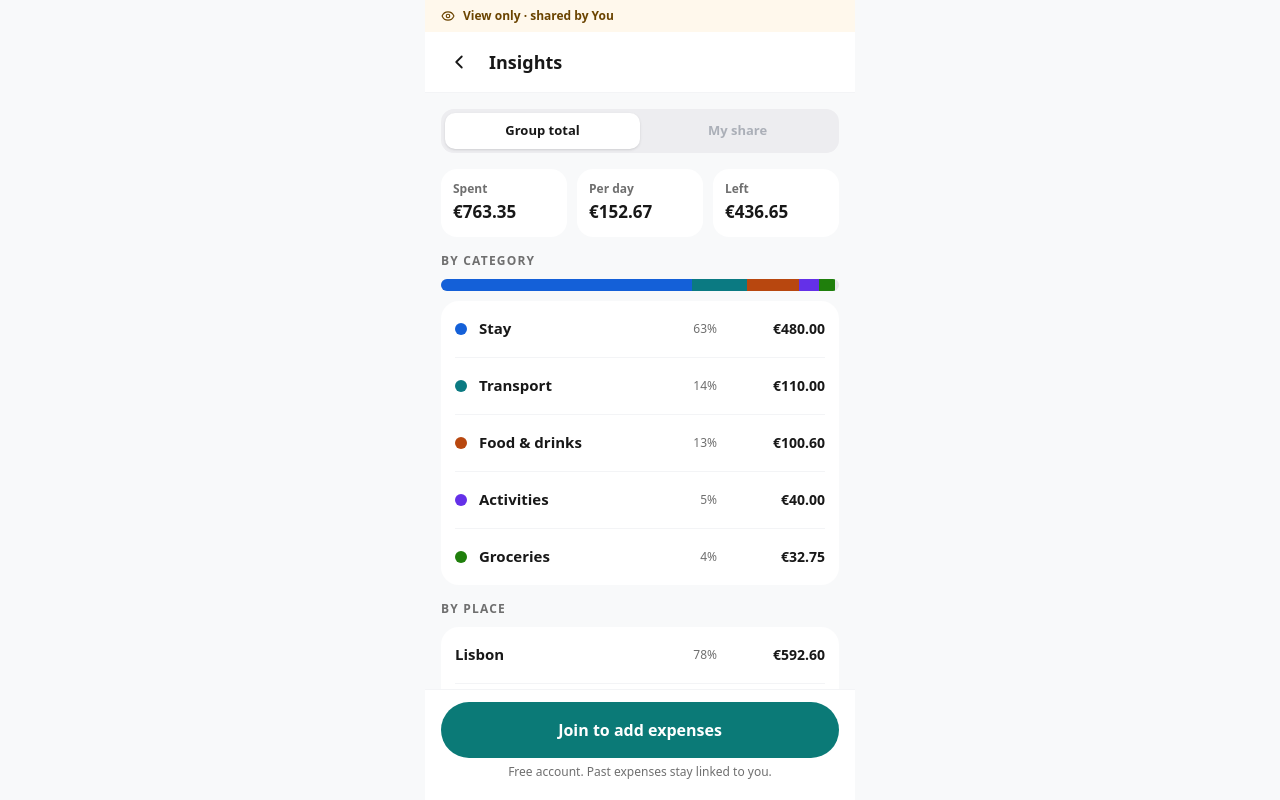
Test: public view-only trip › links insight rows to the guest list, not the member list
Click the button "Food & drinks 13% €100.60" at (530, 442), box top-left (455, 414), bottom-right (825, 470)
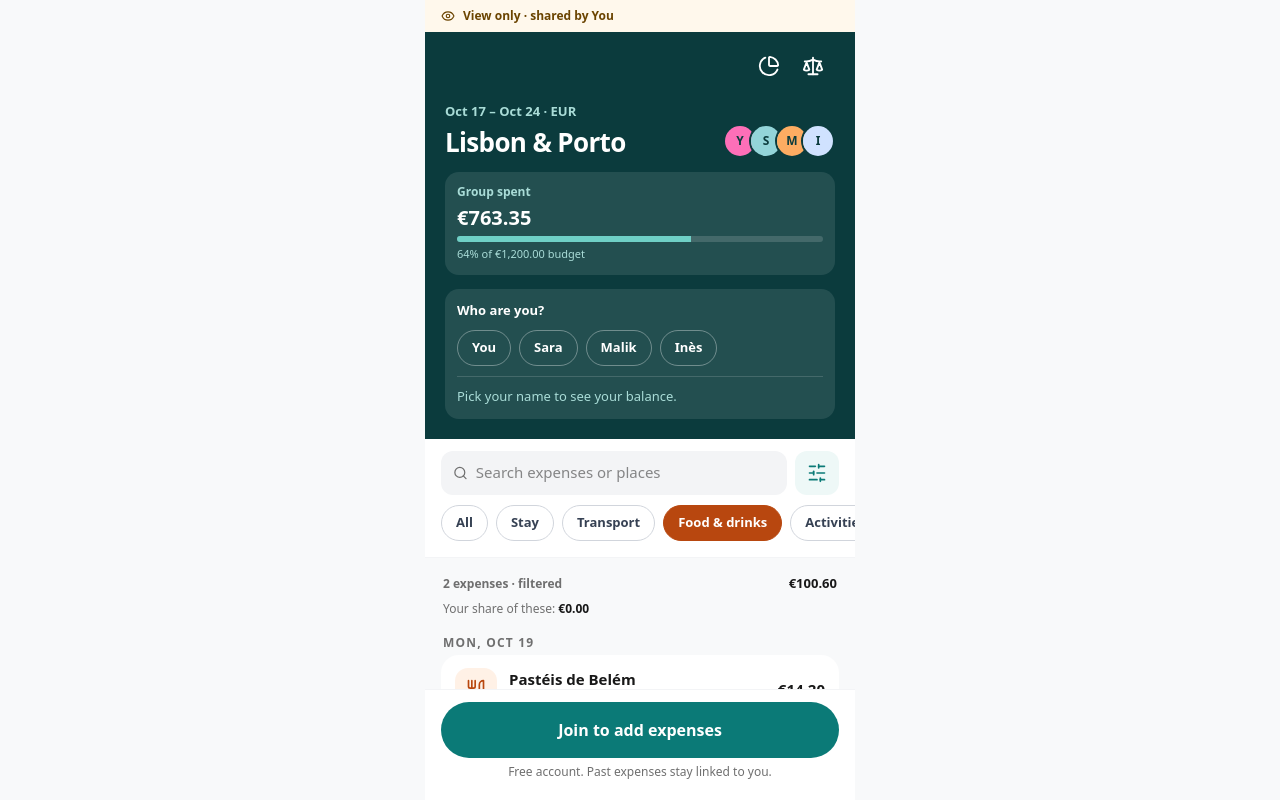
Expected: the text "2 expenses · filtered" is shown, top-left (443, 576), bottom-right (562, 592)
